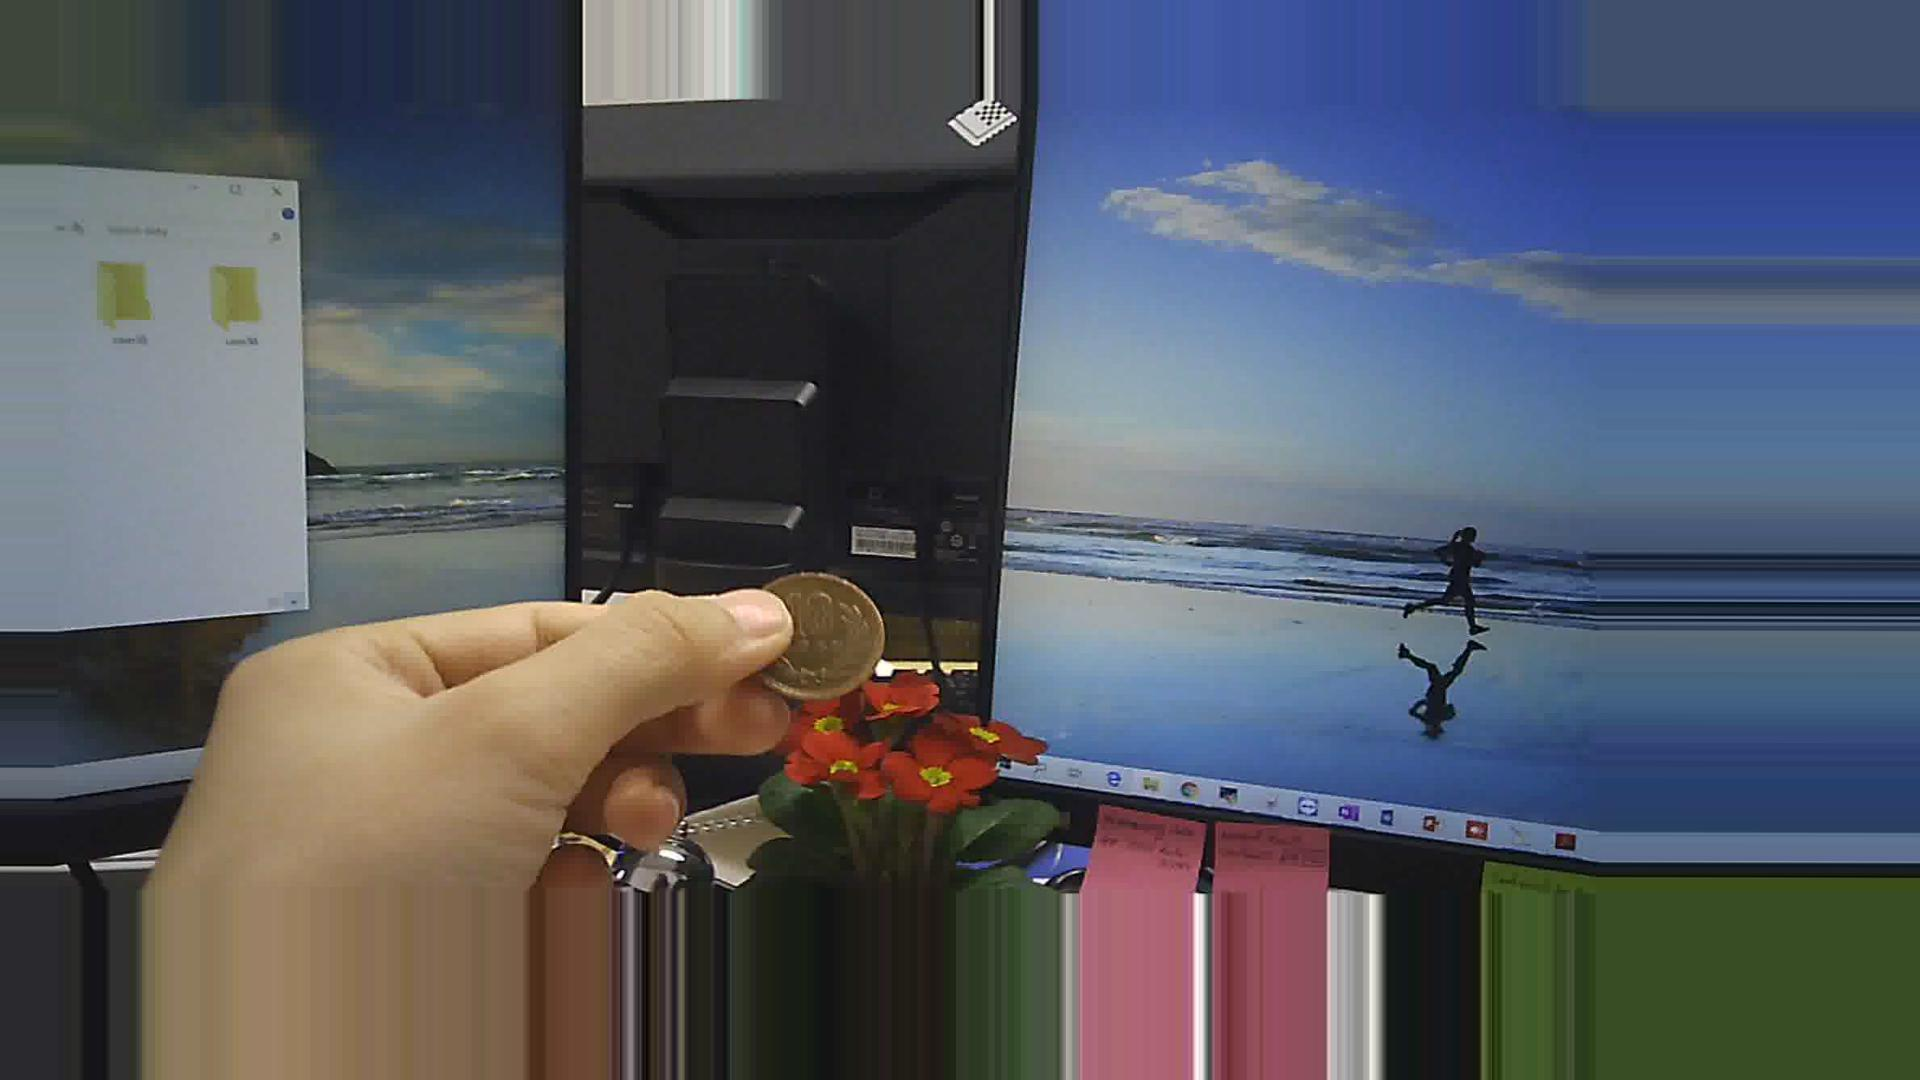10 Yen: (753, 570, 885, 709)
